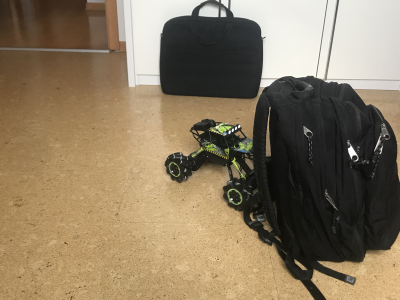remote control car: (163, 118, 263, 212)
